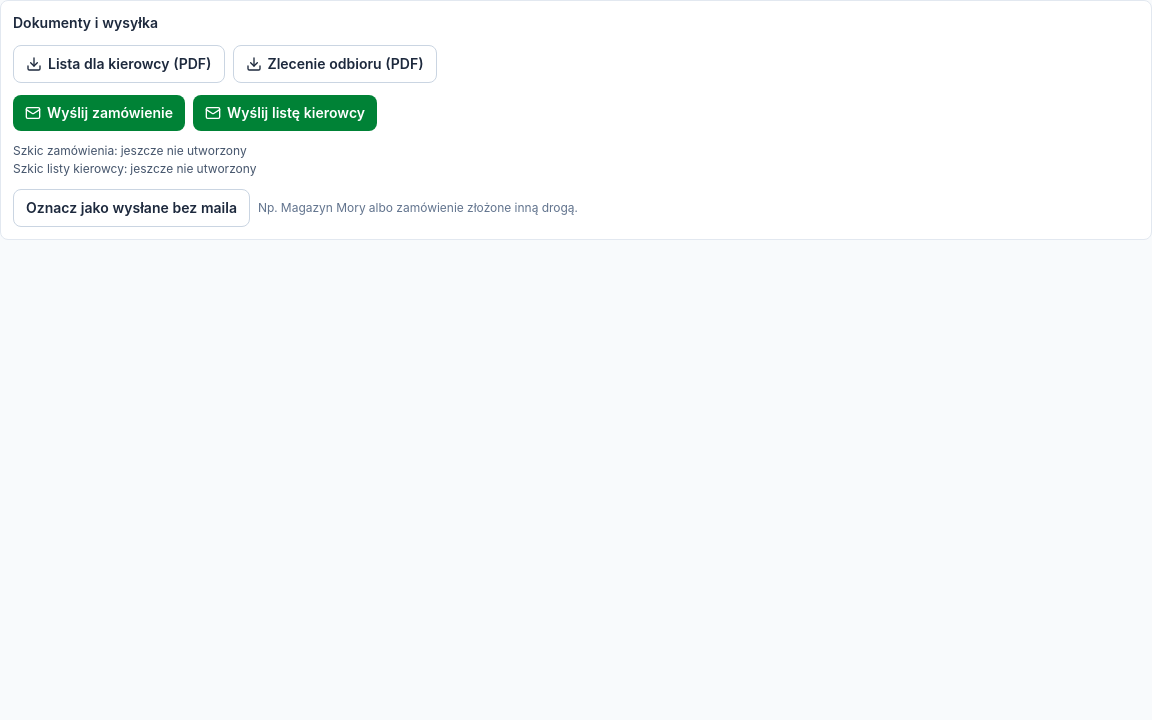
Scenario: TransportSendPanel — confirmation card › lists only the lead supplier's off-catalogue lines, all unticked
Click the button "Wyślij zamówienie" at [99, 113], box [13,95,185,131]
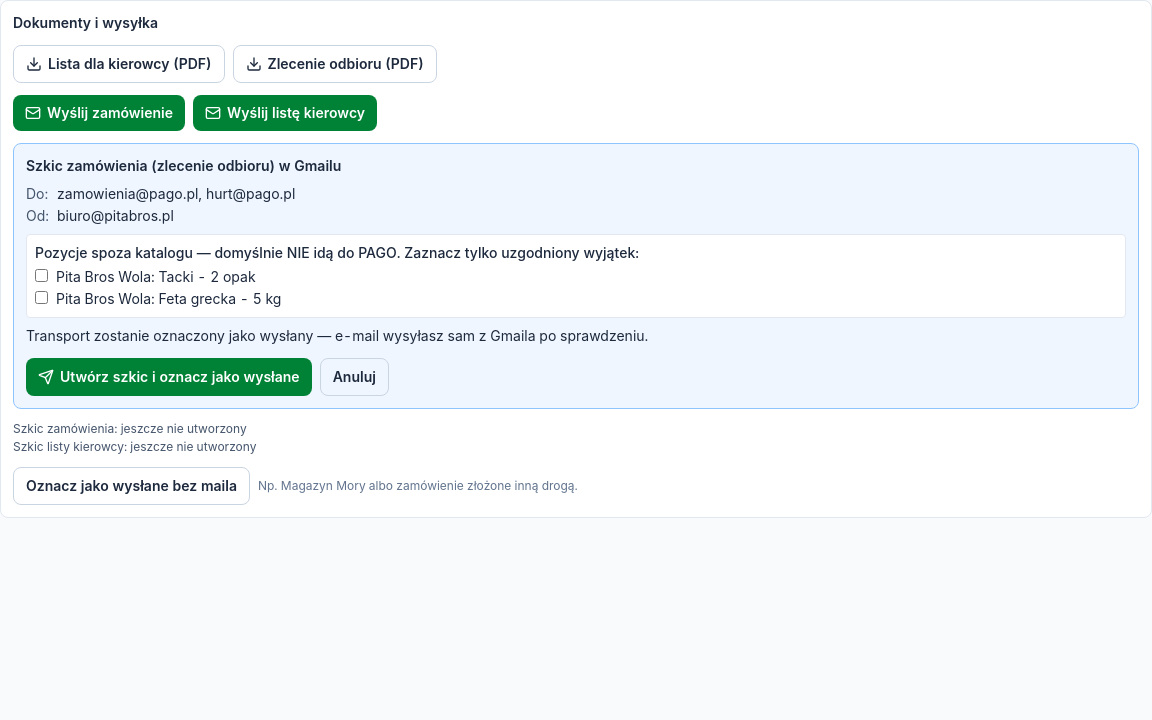
Expected: the text "osobna sekcja" is not shown
Expected: the checkbox labelled "Pita Bros Wola: Tacki - 2 opak" is not checked, [35,269,48,282]
Expected: the checkbox labelled "Pita Bros Wola: Feta grecka - 5 kg" is not checked
Click the checkbox labelled "Pita Bros Wola: Feta grecka - 5 kg" at [42, 298], box [35,291,48,304]
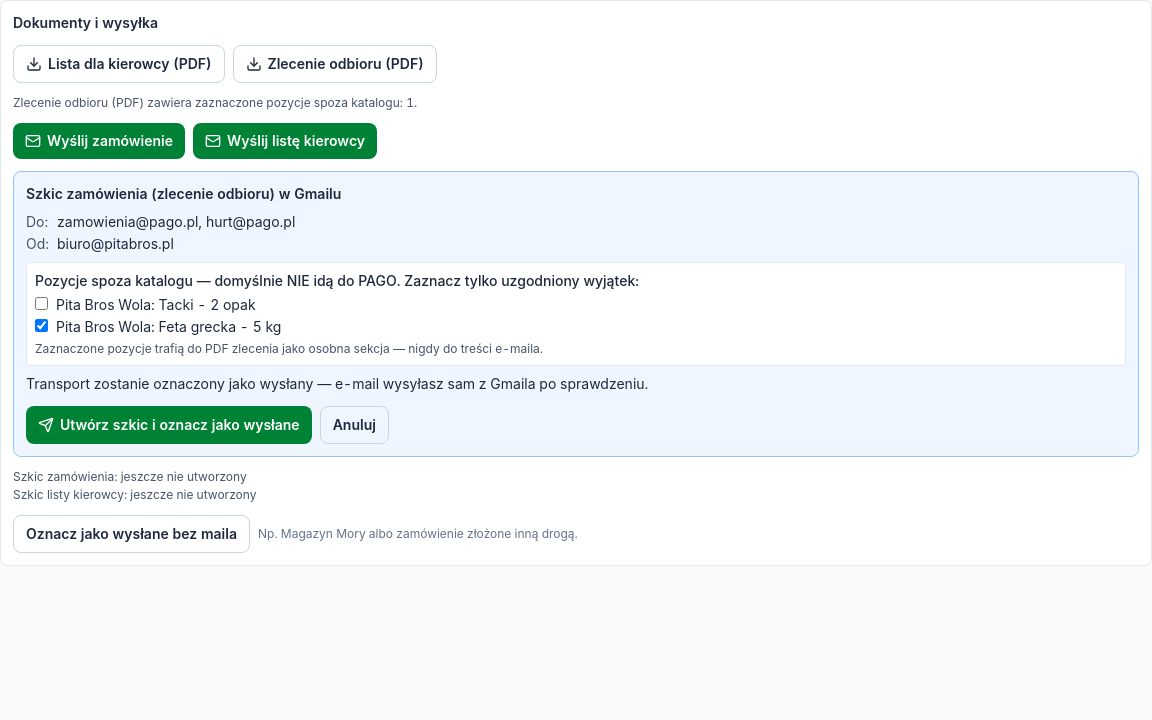
Expected: the text "osobna sekcja — nigdy do treści e-maila" is shown, [35,341,543,356]
